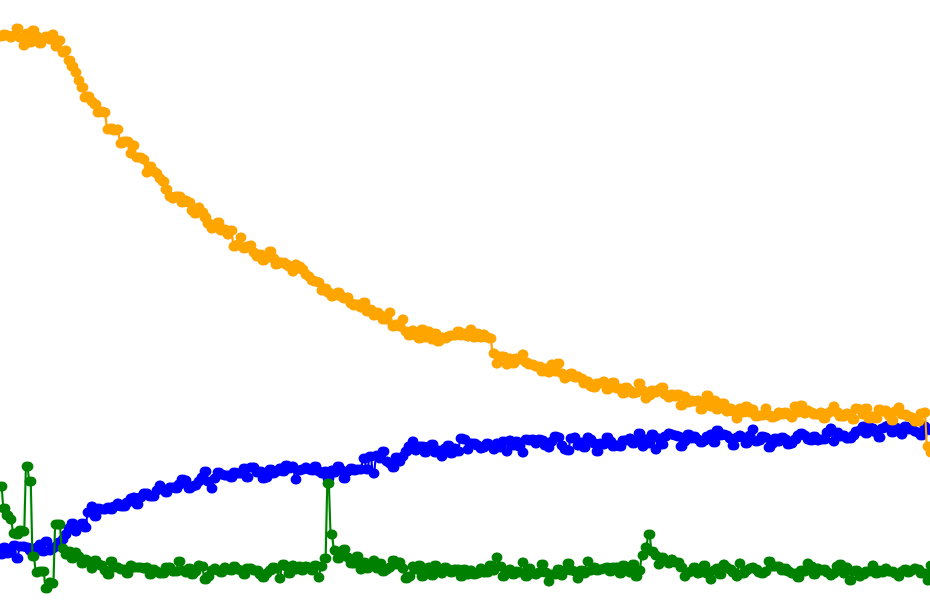CO2 Problem: (311, 0, 738, 616), (738, 0, 930, 616), (155, 0, 311, 616), (38, 0, 155, 616)
Condensation (CO2): (38, 0, 311, 616), (738, 0, 930, 616), (311, 0, 388, 616)
Condensation (O2): (311, 0, 388, 616)
High O2: (38, 0, 311, 616)
Low CO2: (311, 0, 738, 616), (155, 0, 311, 616)
Normal: (0, 0, 930, 616), (311, 0, 738, 616), (738, 0, 930, 616), (155, 0, 311, 616), (38, 0, 155, 616), (0, 0, 38, 616)
O2 Problem: (311, 0, 738, 616), (738, 0, 930, 616), (155, 0, 311, 616)
